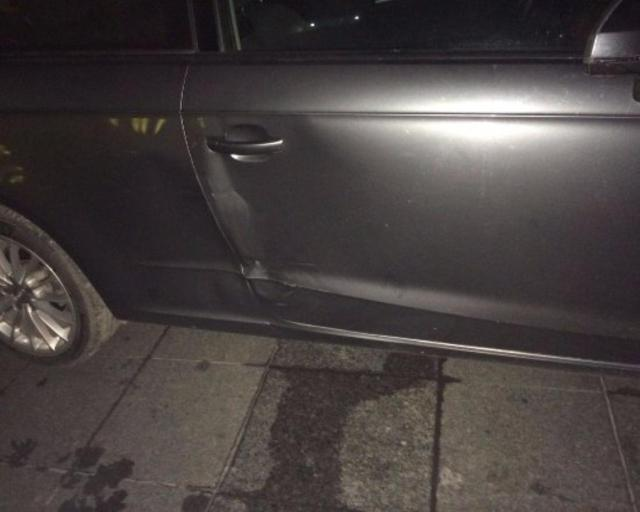dent: (169, 186, 316, 312)
scratch: (97, 114, 214, 142), (0, 144, 26, 184)
